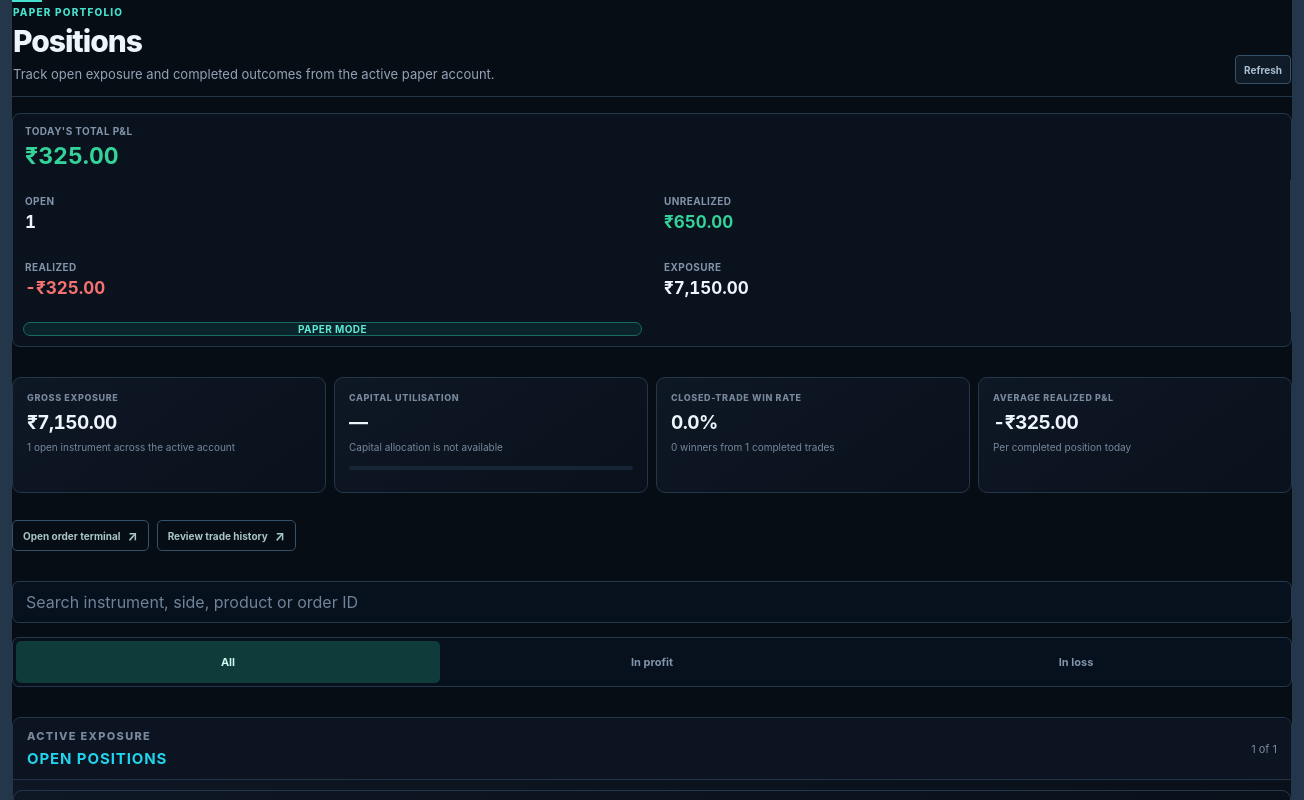
Test: position lifecycle › shows broker-style summary, separate books, and filters both by P&L
This screenshot has width=1304, height=800.
Check: the element named "Position summary" shows "₹325.00", box [25, 142, 119, 170]
Click the button "In loss": {"x": 1076, "y": 662} [864, 641, 1288, 683]
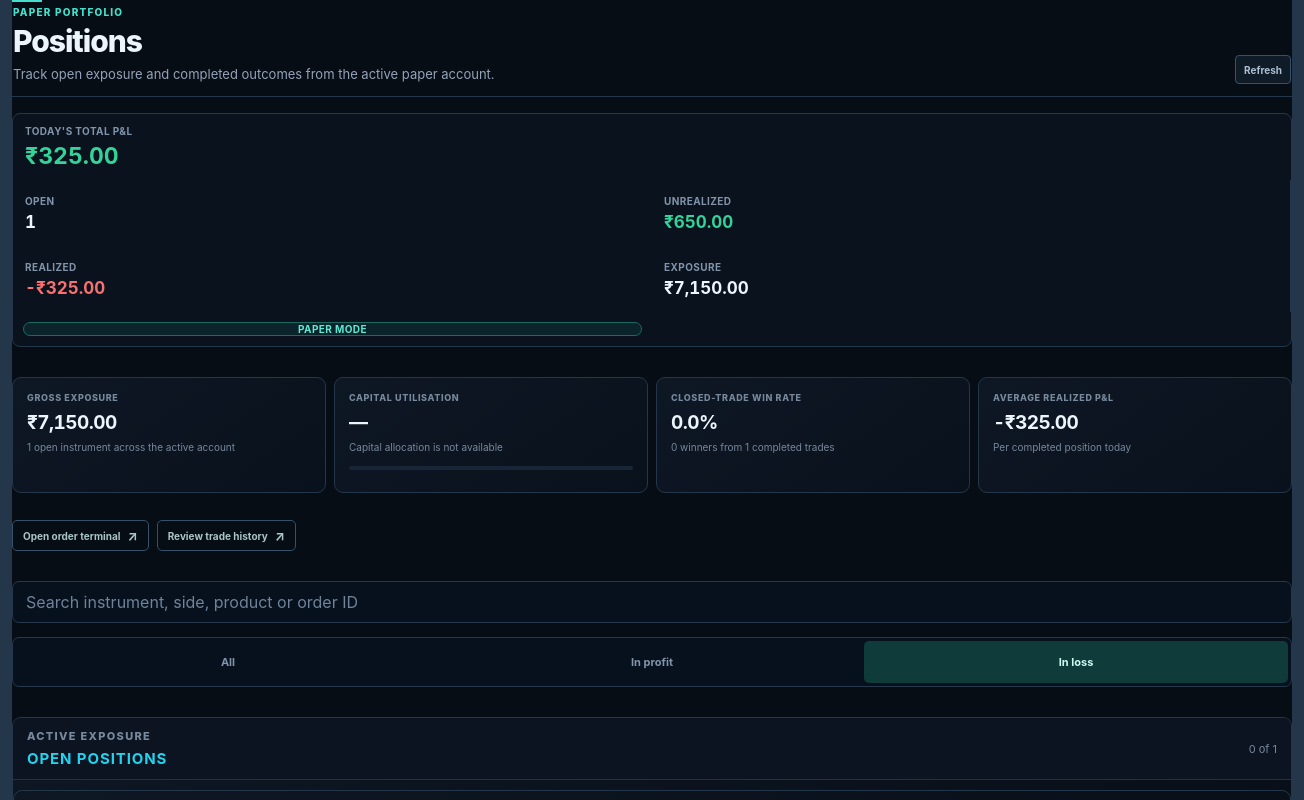
In the search field named "Search positions": {"x": 652, "y": 602} [12, 581, 1292, 623], type "does-not-exist"
(page scrolled)
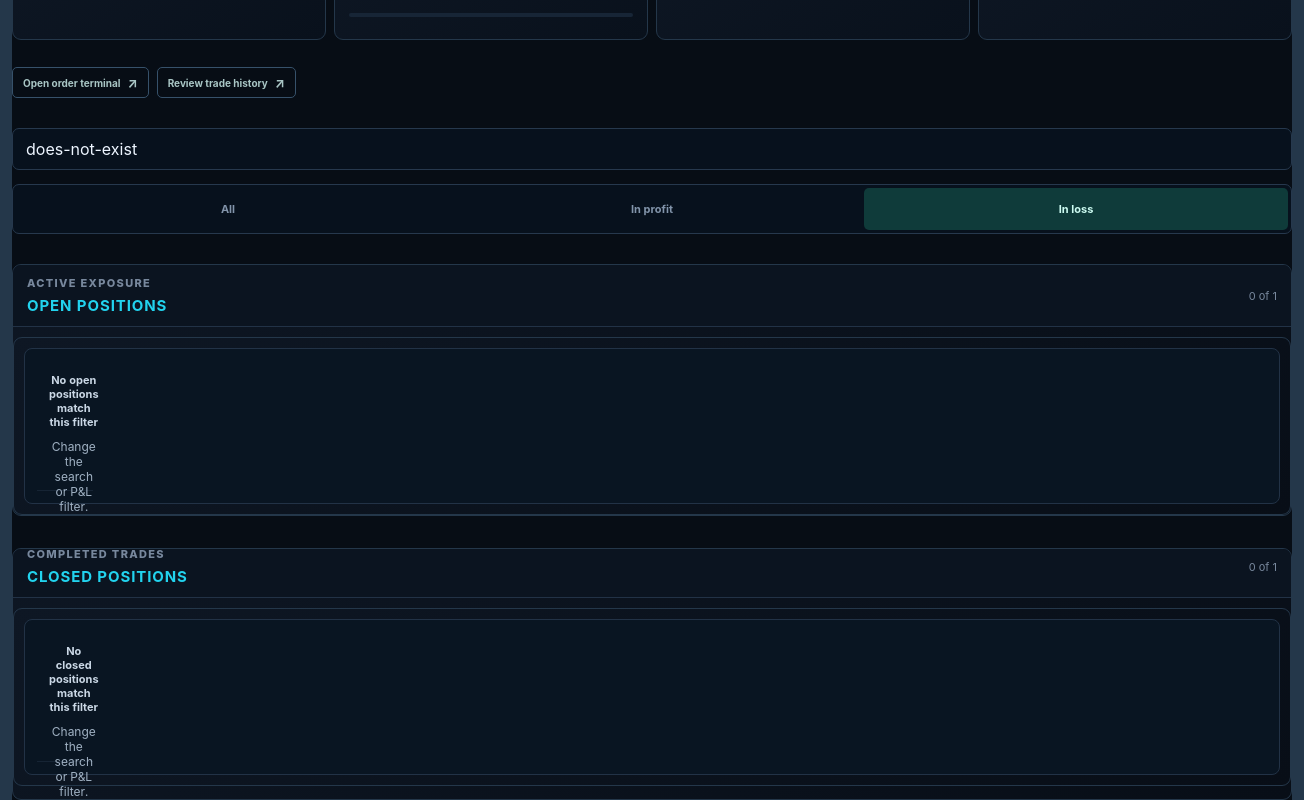
Check: the text "No open positions match this filter" is shown, box [49, 373, 99, 429]
Check: the text "No closed positions match this filter" is shown, box [49, 644, 99, 714]
